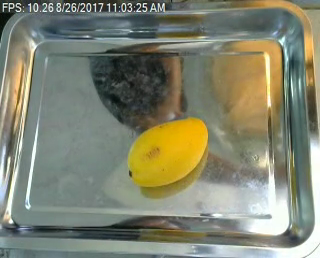Mango: (129, 110, 211, 192)
